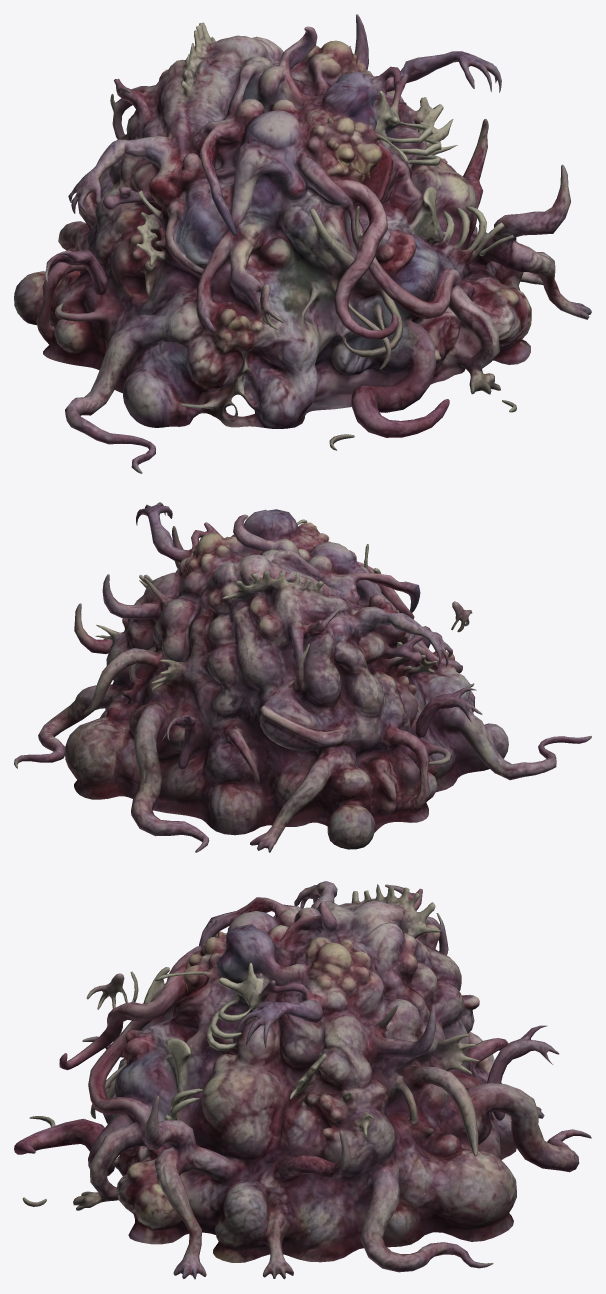
File: Modelo_MasaSC.glb
3 renders of one model, top to bottom at view 1: azimuth 30°, elevation 25°; view 2: azimuth 150°, elevation 25°; view 3: azimuth 270°, elevation 25°, orthographic. The views are drawn at different scales.
Visible parts, largest first — view 1: tripo_node_c38796fe-3eec-42c8-b751-f0ed2cb77ed8; view 2: tripo_node_c38796fe-3eec-42c8-b751-f0ed2cb77ed8; view 3: tripo_node_c38796fe-3eec-42c8-b751-f0ed2cb77ed8.
Boxes of the visible parts, x1=… form: tripo_node_c38796fe-3eec-42c8-b751-f0ed2cb77ed8: x1=14, y1=14, x2=591, y2=473; tripo_node_c38796fe-3eec-42c8-b751-f0ed2cb77ed8: x1=14, y1=502, x2=591, y2=852; tripo_node_c38796fe-3eec-42c8-b751-f0ed2cb77ed8: x1=14, y1=881, x2=591, y2=1279.
Bounding box in the file's own units: 1 × 0.5437 × 1.
Materials: 1 (1 with a texture image).
